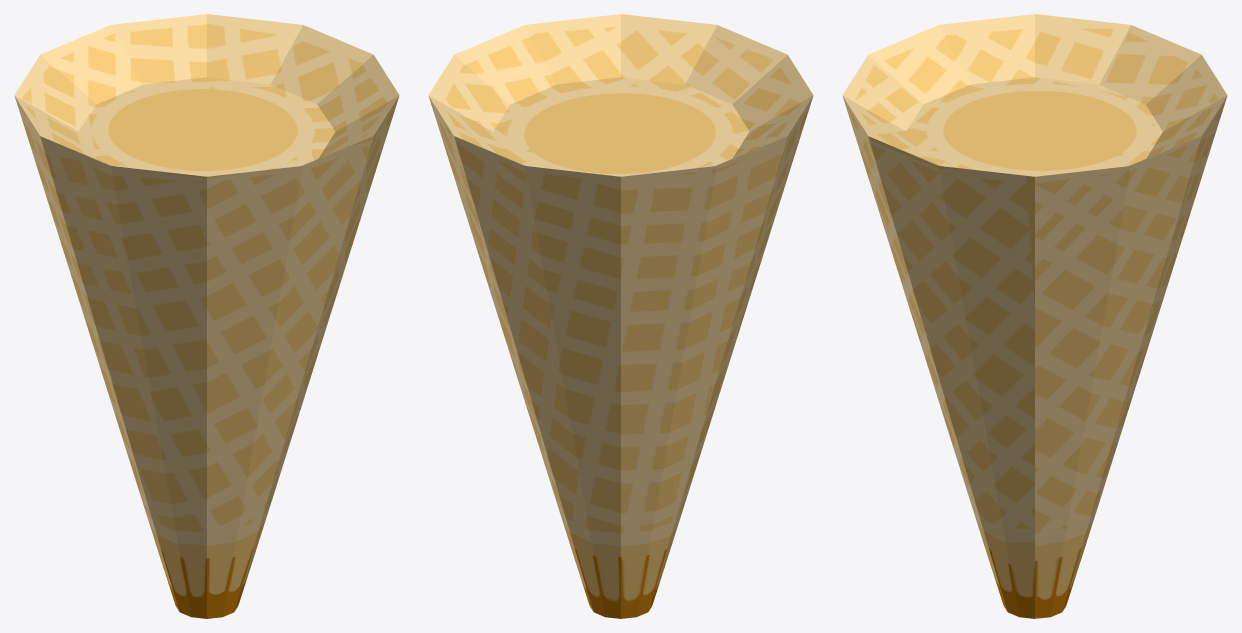
Rendered from Conito.fbx.
The picture shows the model from 3 angles, left to right: view 1: azimuth 30°, elevation 25°; view 2: azimuth 150°, elevation 25°; view 3: azimuth 270°, elevation 25°; orthographic projection.
Parts seen in each view (by area): view 1: pCylinder8; view 2: pCylinder8; view 3: pCylinder8.
Boxes of the visible parts, bbox=[...] form: pCylinder8: bbox=[14, 14, 399, 618]; pCylinder8: bbox=[428, 14, 813, 618]; pCylinder8: bbox=[842, 14, 1227, 618].
Bounding box in the file's own units: 15.43 × 22.55 × 15.43.
Materials: 1 (1 with a texture image).
